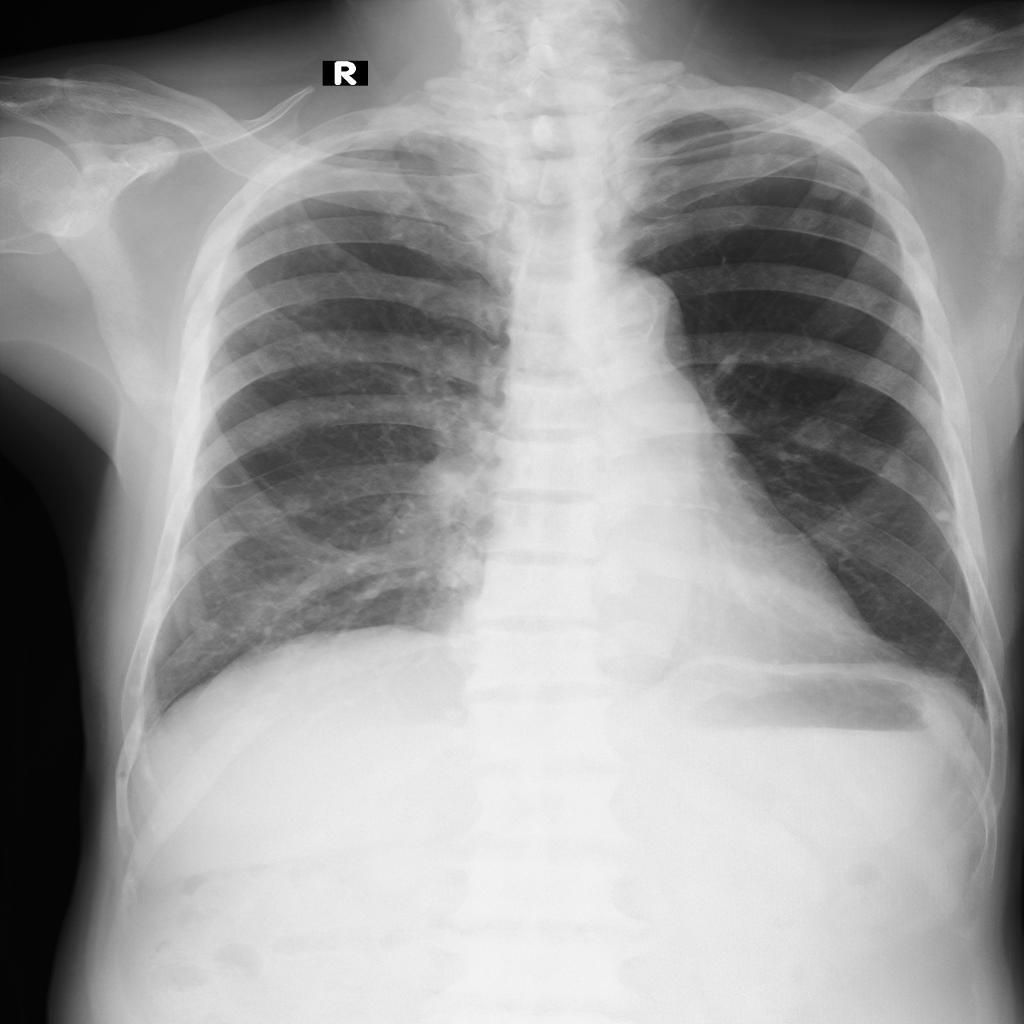Nodule: (438, 554, 487, 589), (812, 175, 844, 200), (792, 208, 827, 230), (286, 493, 316, 517), (933, 510, 954, 524)
